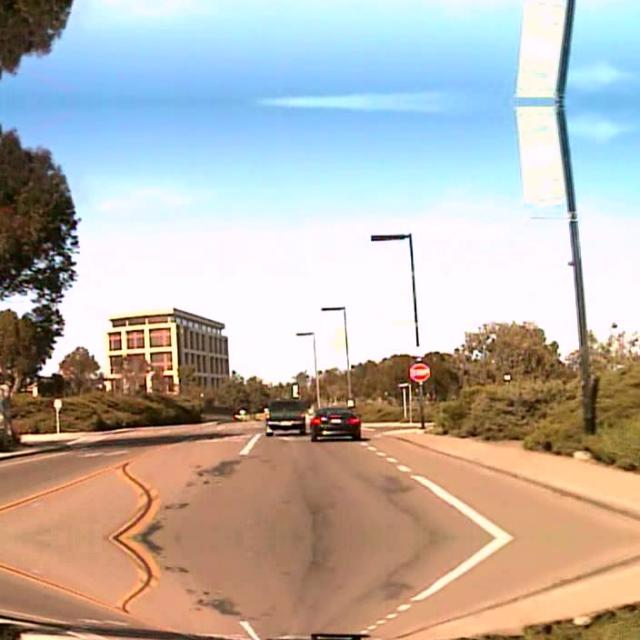stop: (409, 361, 429, 381)
